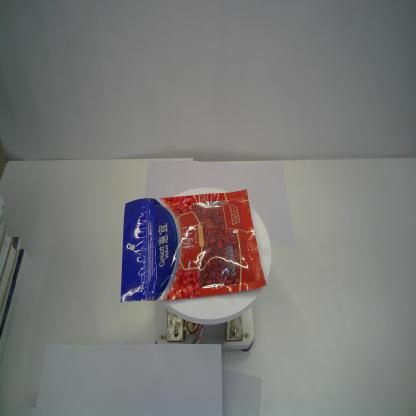Dried Fruit: (119, 187, 268, 305)
